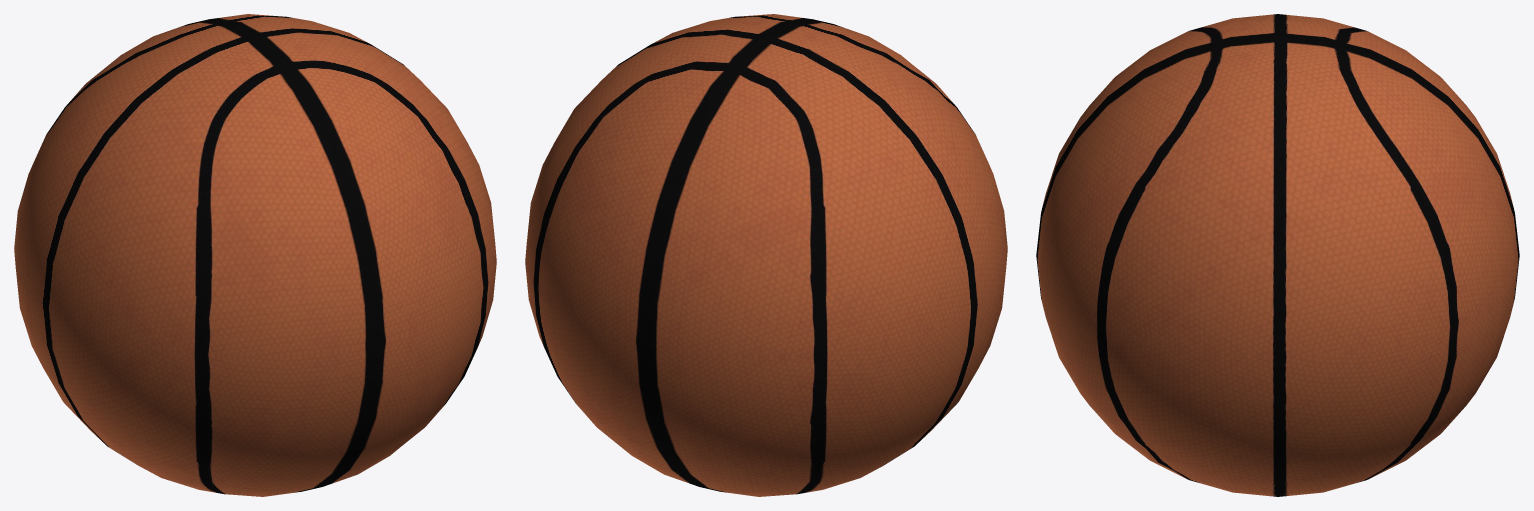
The model's file is basketball.gltf.
The picture shows the model from 3 angles, left to right: view 1: azimuth 30°, elevation 25°; view 2: azimuth 150°, elevation 25°; view 3: azimuth 270°, elevation 25°; orthographic projection.
Visible parts, largest first — view 1: Cube__0; view 2: Cube__0; view 3: Cube__0.
Part boxes in pixels (x1,y1,x2,y2): Cube__0: [14, 14, 496, 496]; Cube__0: [525, 14, 1007, 496]; Cube__0: [1036, 14, 1519, 496].
Bounding box in the file's own units: 3.46 × 3.46 × 3.46.
1 material, 1 textured.
